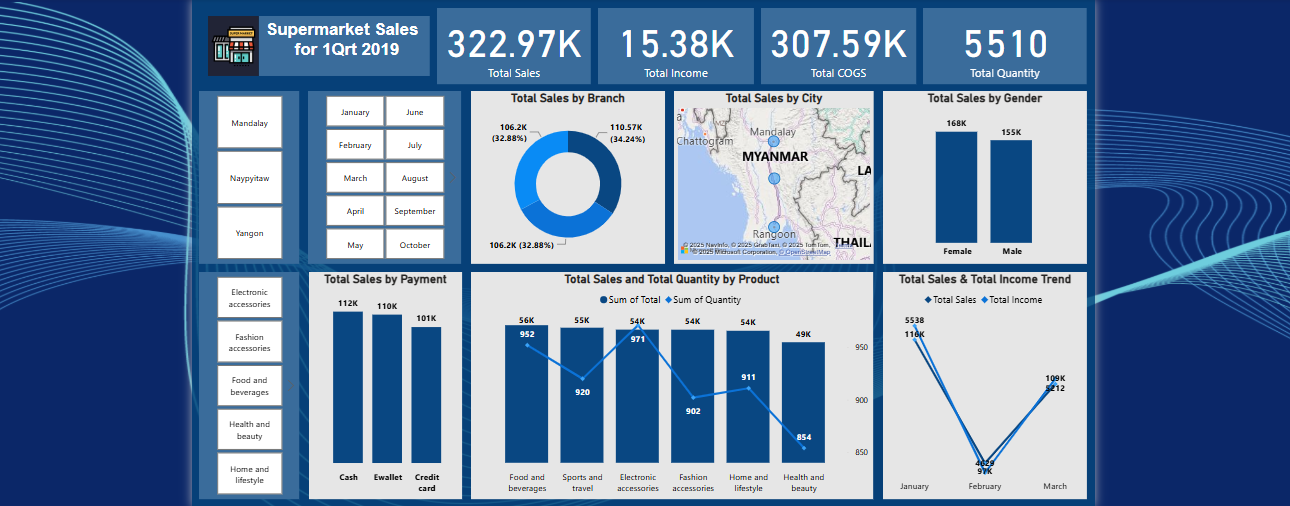

The dashboard page shown, as its layout file describes it:
{"tool":"powerbi","page":{"name":"Supermarket-Sales","canvas":[1280,720],"ordinal":0},"visuals":[{"type":"card","fields":{"Values":["Sum(supermarket_sales.Total)"]},"box":[347.2,12.8,218.3,107.7],"z":0},{"type":"card","fields":{"Values":["Sum(supermarket_sales.gross income)"]},"box":[575.4,12.8,221.1,107.7],"z":1000},{"type":"card","fields":{"Values":["Sum(supermarket_sales.cogs)"]},"box":[806.5,12.8,219.7,107.7],"z":2000},{"type":"donutChart","title":"Total Sales by Branch","fields":{"Y":["Sum(supermarket_sales.Total)"],"Category":["supermarket_sales.Branch"]},"box":[394.7,130.4,275,245.2],"z":3000},{"type":"map","title":"Total Sales by City","fields":{"Category":["supermarket_sales.City"],"Size":["Sum(supermarket_sales.Total)"]},"box":[682.8,130.4,283.5,245.2],"z":4000},{"type":"lineStackedColumnComboChart","title":"Total Sales and Total Quantity by Product Line","fields":{"Category":["supermarket_sales.Product line"],"Y":["Sum(supermarket_sales.Total)"],"Y2":["Sum(supermarket_sales.Quantity)"]},"box":[395.9,386.9,569.8,321.7],"z":5000},{"type":"clusteredColumnChart","title":" Total Sales by Gender","fields":{"Category":["supermarket_sales.Gender"],"Y":["Sum(supermarket_sales.Total)"]},"box":[979.4,130.4,289.1,245.2],"z":6000},{"type":"slicer","fields":{"Values":["supermarket_sales.Date.Variation.Date Hierarchy.Month"]},"box":[164.8,130.4,216.9,245.2],"z":7000},{"type":"lineChart","title":"Total Sales & Total Income Trend","fields":{"Category":["supermarket_sales.Date.Variation.Date Hierarchy.Month"],"Y":["Sum(supermarket_sales.Total)"],"Y2":["Sum(supermarket_sales.gross income)"]},"box":[979.4,386.9,289.1,321.7],"z":8000},{"type":"textbox","box":[95,24.1,242.4,85],"z":9000},{"type":"image","box":[22.7,24.1,72.3,85],"z":10000},{"type":"lineClusteredColumnComboChart","title":"Total Sales by Payment","fields":{"Category":["supermarket_sales.Payment"],"Y":["Sum(supermarket_sales.Total)"]},"box":[165.4,386.9,216.9,321.7],"z":11000},{"type":"slicer","fields":{"Values":["supermarket_sales.City"]},"box":[9.9,130.4,141.7,245.2],"z":11001},{"type":"slicer","fields":{"Values":["supermarket_sales.Product line"]},"box":[9.9,386.9,141.7,321.7],"z":11002},{"type":"card","fields":{"Values":["Sum(supermarket_sales.Quantity)"]},"box":[1036.1,12.8,232.4,107.7],"z":11003}]}

Visuals, with their boxes in screenshot pixels (x1, y1, x2, y2):
card - Sum(supermarket_sales.Total): <bbox>439, 12, 591, 87</bbox>
card - Sum(supermarket_sales.gross income): <bbox>598, 12, 752, 87</bbox>
card - Sum(supermarket_sales.cogs): <bbox>759, 12, 911, 87</bbox>
"Total Sales by Branch" donutChart: <bbox>472, 94, 664, 264</bbox>
"Total Sales by City" map: <bbox>673, 94, 870, 264</bbox>
"Total Sales and Total Quantity by Product Line" lineStackedColumnComboChart: <bbox>473, 272, 869, 496</bbox>
" Total Sales by Gender" clusteredColumnChart: <bbox>879, 94, 1080, 264</bbox>
slicer - supermarket_sales.Date.Variation.Date Hierarchy.Month: <bbox>313, 94, 463, 264</bbox>
"Total Sales & Total Income Trend" lineChart: <bbox>879, 272, 1080, 496</bbox>
textbox: <bbox>264, 20, 433, 79</bbox>
image: <bbox>214, 20, 264, 79</bbox>
"Total Sales by Payment" lineClusteredColumnComboChart: <bbox>313, 272, 464, 496</bbox>
slicer - supermarket_sales.City: <bbox>205, 94, 304, 264</bbox>
slicer - supermarket_sales.Product line: <bbox>205, 272, 304, 496</bbox>
card - Sum(supermarket_sales.Quantity): <bbox>918, 12, 1080, 87</bbox>
